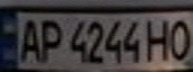2: (84, 17, 106, 64)
4: (103, 16, 127, 65), (121, 16, 145, 64), (63, 16, 87, 63)
A: (15, 16, 45, 63)
H: (142, 15, 175, 63)
O: (166, 15, 193, 62)
P: (36, 16, 66, 63)
